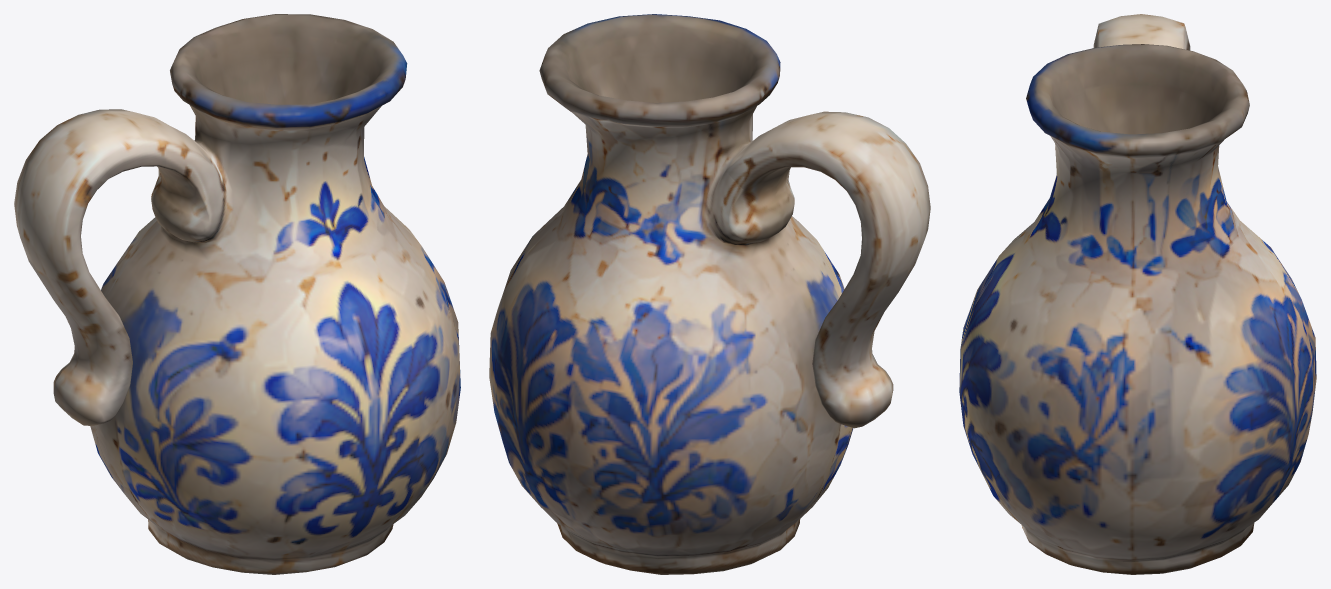
The model's file is porcelain_jug.fbx.
3 views of the same model, side by side, from view 1: azimuth 30°, elevation 25°; view 2: azimuth 150°, elevation 25°; view 3: azimuth 270°, elevation 25° (orthographic). The views are drawn at different scales.
Parts seen in each view (by area): view 1: porcelain_jug; view 2: porcelain_jug; view 3: porcelain_jug.
Boxes of the visible parts, x1,y1,x2,y2 form: porcelain_jug: [14, 14, 460, 574]; porcelain_jug: [489, 14, 930, 574]; porcelain_jug: [959, 14, 1316, 574].
Bounding box in the file's own units: 22.27 × 24.41 × 17.53.
Materials: 1 (1 with a texture image).
